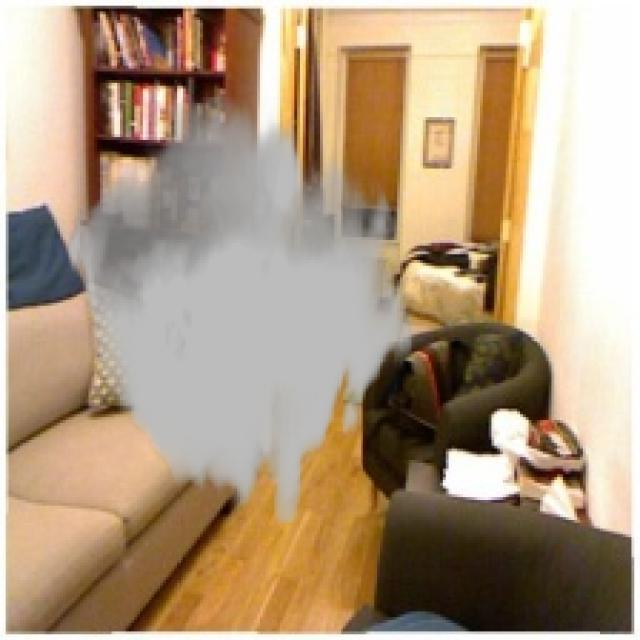Smoke: (66, 97, 414, 523)
